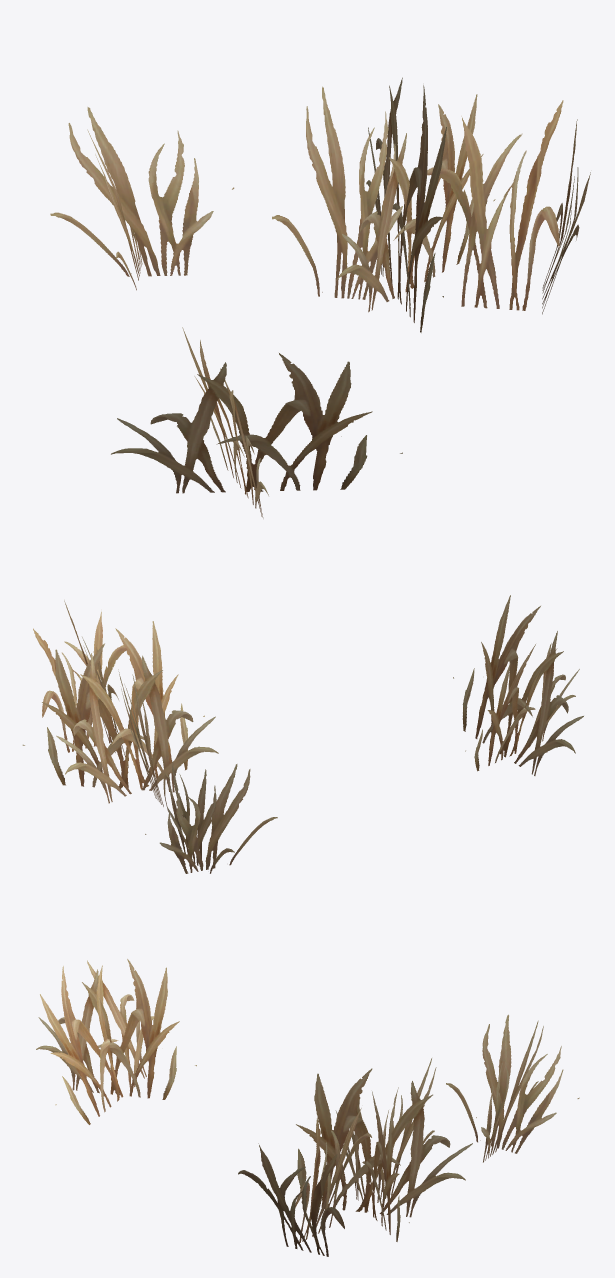
Rendered from Map_11_grass04.FBX.
The picture shows the model from 3 angles, top to bottom: view 1: azimuth 30°, elevation 25°; view 2: azimuth 150°, elevation 25°; view 3: azimuth 270°, elevation 25°; orthographic projection. The views are drawn at different scales.
Parts seen in each view (by area): view 1: Map_11_grass04; view 2: Map_11_grass04; view 3: Map_11_grass04.
Boxes of the visible parts, bbox=[...] form: Map_11_grass04: bbox=[50, 77, 590, 518]; Map_11_grass04: bbox=[22, 595, 583, 873]; Map_11_grass04: bbox=[36, 959, 579, 1256].
Bounding box in the file's own units: 117 × 39.8 × 131.
Materials: 1 (1 with a texture image).
